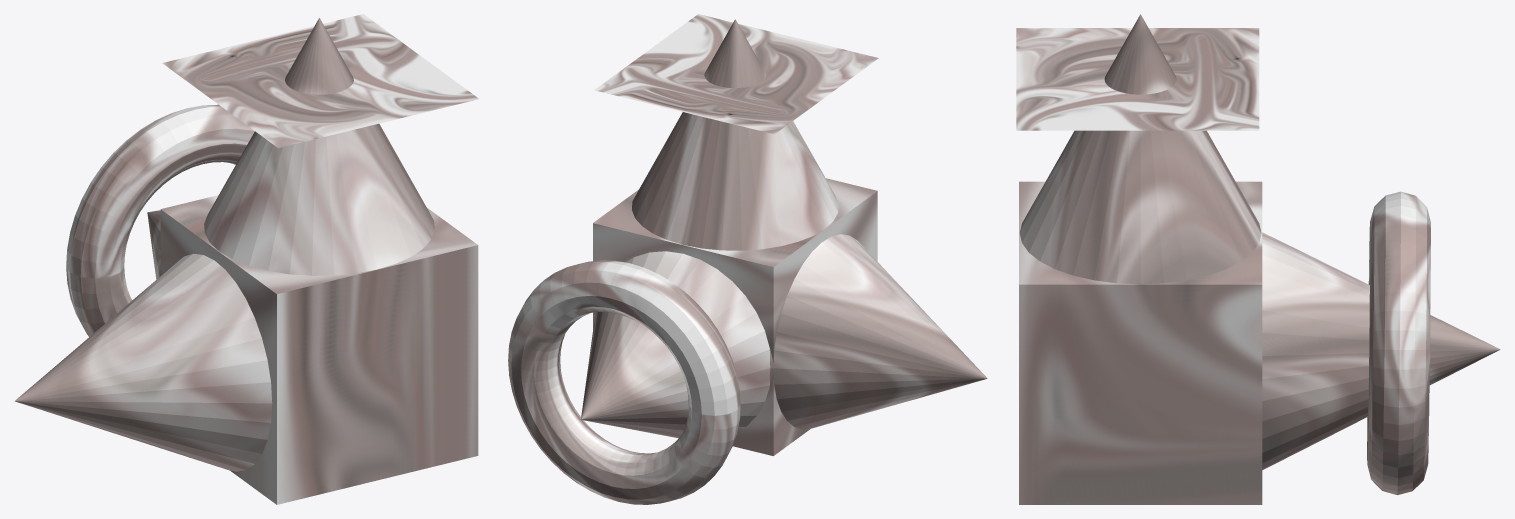
The picture shows the model from 3 angles, left to right: view 1: azimuth 30°, elevation 25°; view 2: azimuth 150°, elevation 25°; view 3: azimuth 270°, elevation 25°; orthographic projection. The views are drawn at different scales.
Parts seen in each view (by area): view 1: Cube, 円錐.002, 円錐, 平面, トーラス, 円錐.001; view 2: トーラス, 円錐.002, 円錐, 円錐.001, 平面, Cube; view 3: Cube, 円錐, 円錐.001, 平面, トーラス.
Boxes of the visible parts, bbox=[...] form: Cube: bbox=[160, 195, 478, 504]; 円錐.002: bbox=[15, 253, 272, 471]; 円錐: bbox=[204, 18, 434, 275]; 平面: bbox=[162, 14, 478, 147]; トーラス: bbox=[66, 104, 254, 336]; 円錐.001: bbox=[147, 210, 160, 279]; トーラス: bbox=[508, 260, 740, 504]; 円錐.002: bbox=[769, 234, 987, 429]; 円錐: bbox=[632, 19, 838, 250]; 円錐.001: bbox=[581, 251, 770, 438]; 平面: bbox=[594, 14, 878, 134]; Cube: bbox=[593, 178, 877, 455]; Cube: bbox=[1019, 181, 1262, 504]; 円錐: bbox=[1019, 14, 1261, 284]; 円錐.001: bbox=[1262, 232, 1500, 469]; 平面: bbox=[1016, 28, 1259, 130]; トーラス: bbox=[1367, 191, 1430, 495].
Size of the model in its own units: 4.16 by 4.24 by 3.99.
2 materials, 2 textured.
